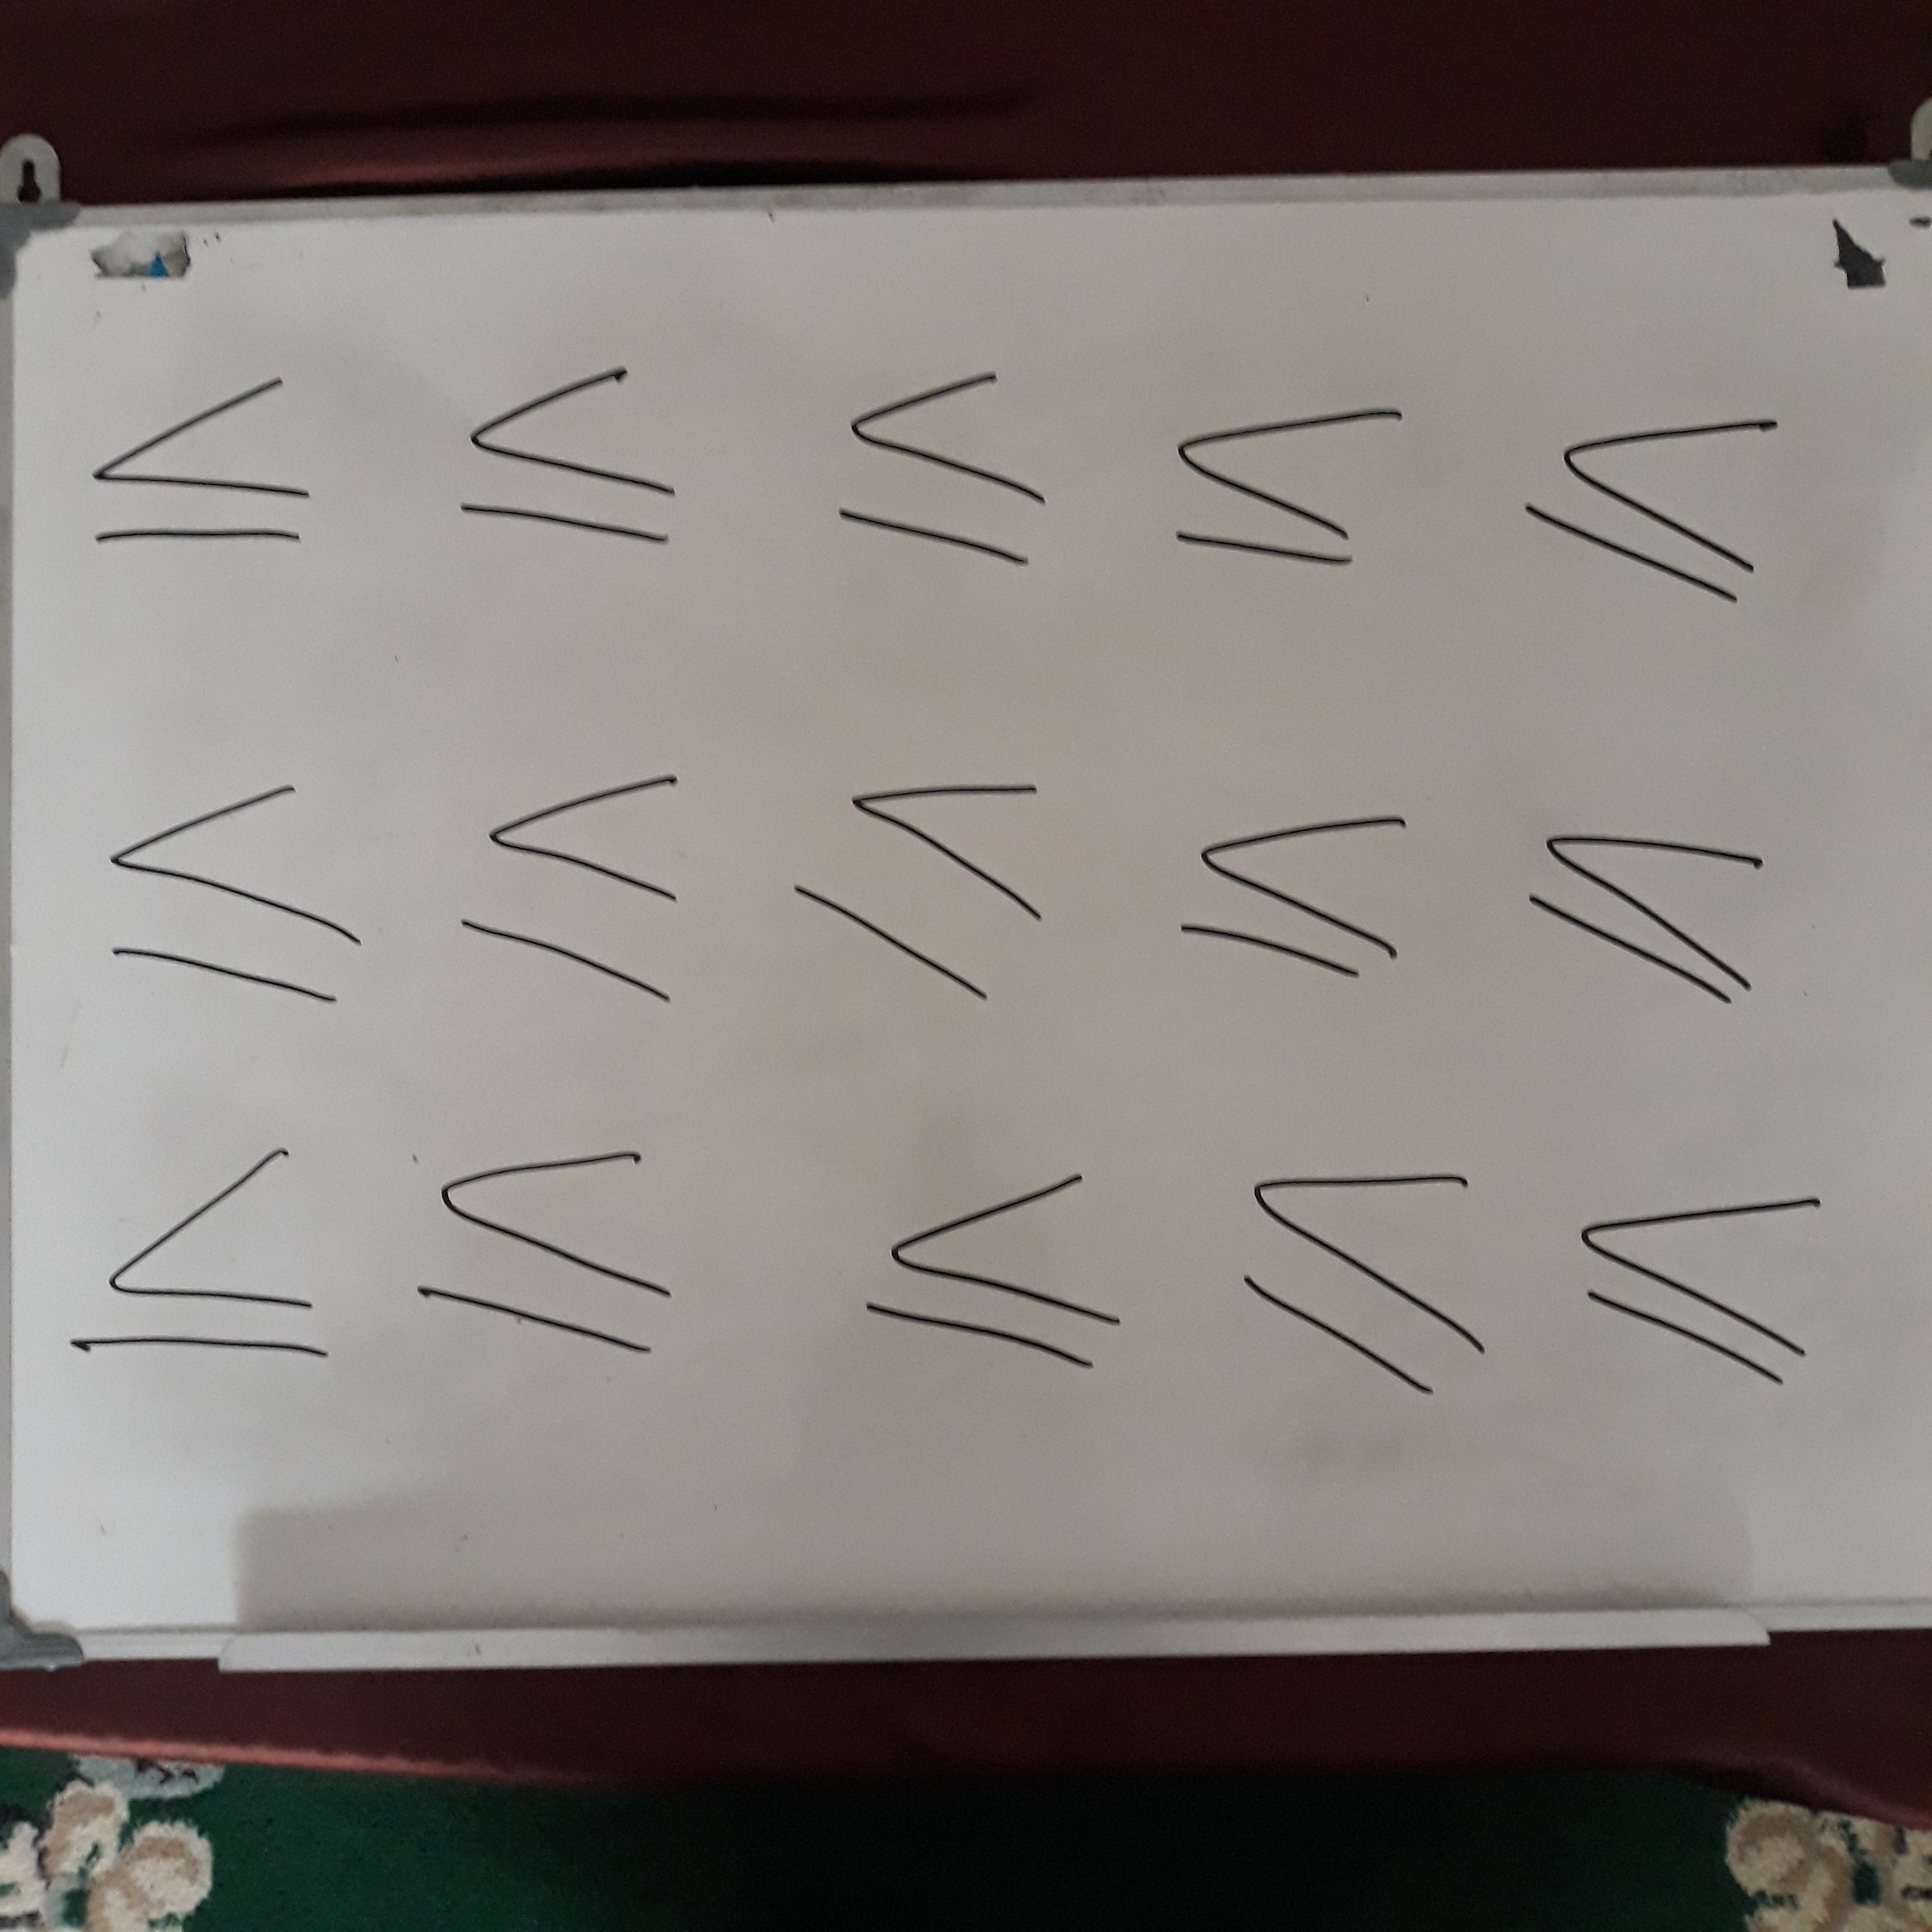lessthan-equal: (43, 1128, 369, 1377), (79, 758, 373, 1028), (774, 743, 1068, 1013), (435, 741, 729, 1012), (1212, 1139, 1500, 1413), (1561, 1137, 1849, 1411), (395, 1128, 699, 1370), (852, 1143, 1157, 1385), (1515, 391, 1795, 622), (1499, 799, 1786, 1015), (1148, 784, 1436, 1000), (65, 357, 343, 571), (430, 345, 708, 559), (807, 360, 1085, 574), (1152, 377, 1430, 591)
